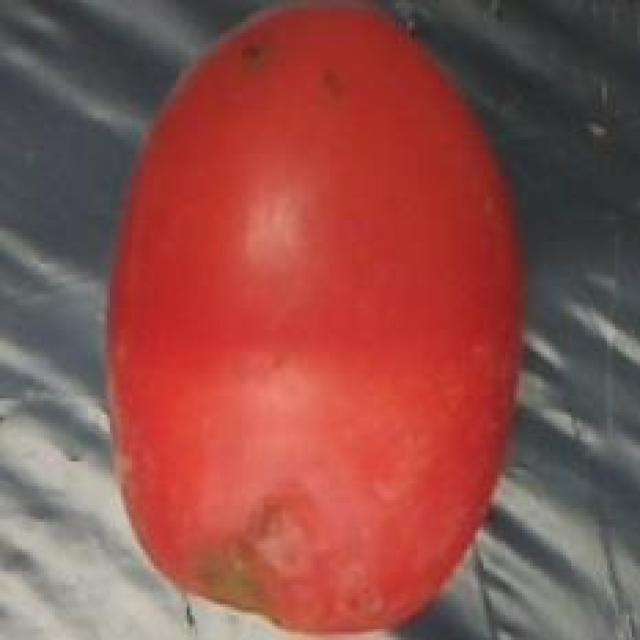overripe tomato: (85, 2, 532, 640)
